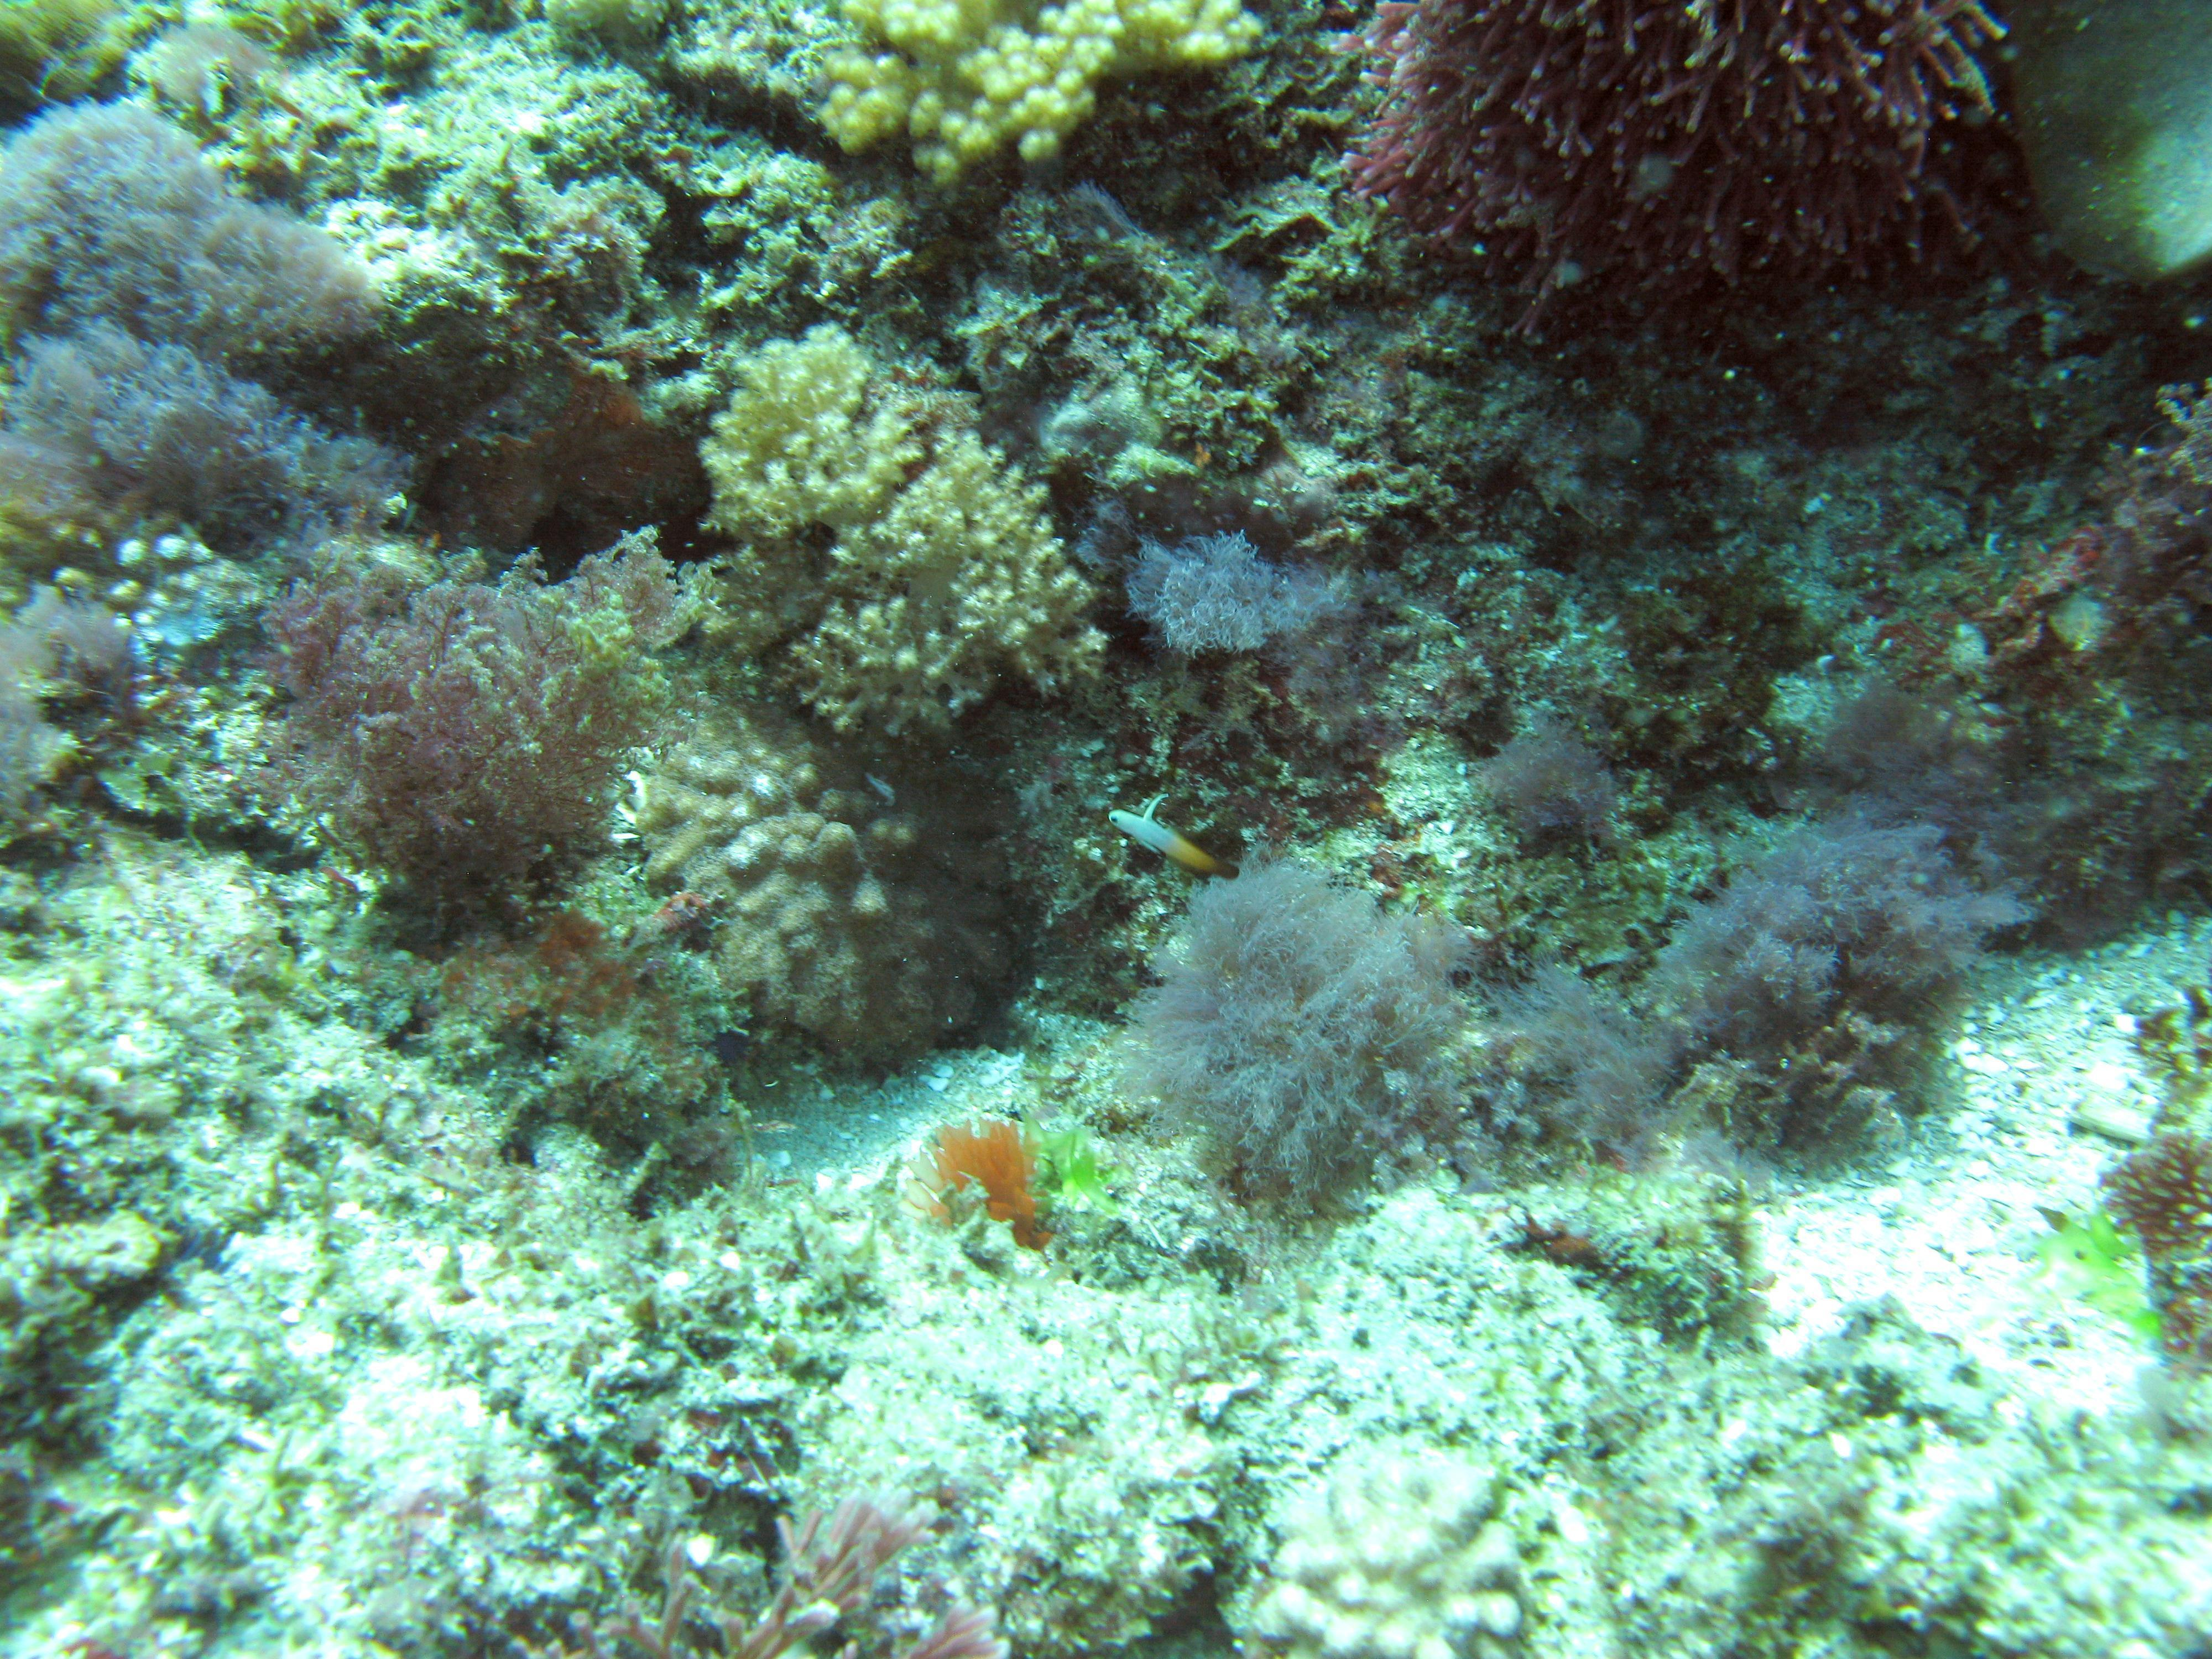Fish: (1078, 767, 1273, 920)
